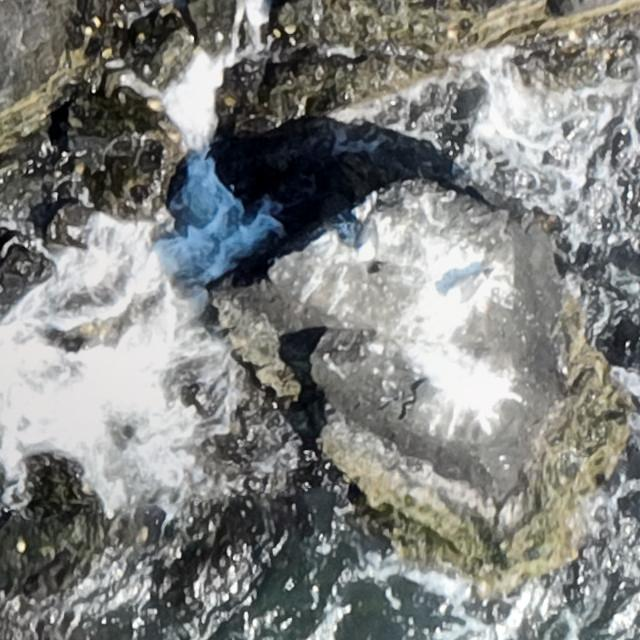umineko: (441, 265, 494, 305), (353, 216, 378, 268)
